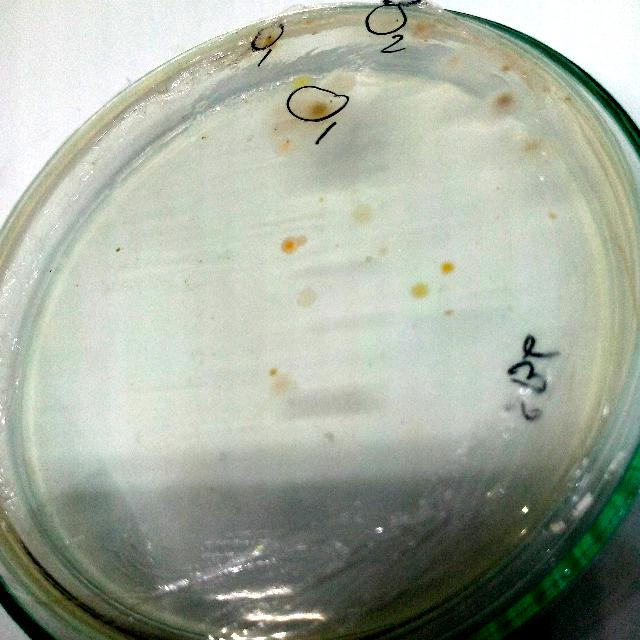colony: (491, 88, 522, 120), (279, 228, 311, 258), (348, 200, 382, 228), (326, 69, 359, 95), (303, 94, 333, 122), (409, 16, 437, 44), (367, 8, 397, 34), (269, 372, 297, 398), (287, 72, 313, 95), (520, 134, 542, 158), (294, 286, 318, 308), (407, 282, 433, 302), (258, 32, 280, 54), (540, 208, 560, 225), (496, 60, 512, 80), (438, 261, 456, 277), (376, 244, 392, 260), (440, 306, 454, 320), (266, 365, 280, 379)
